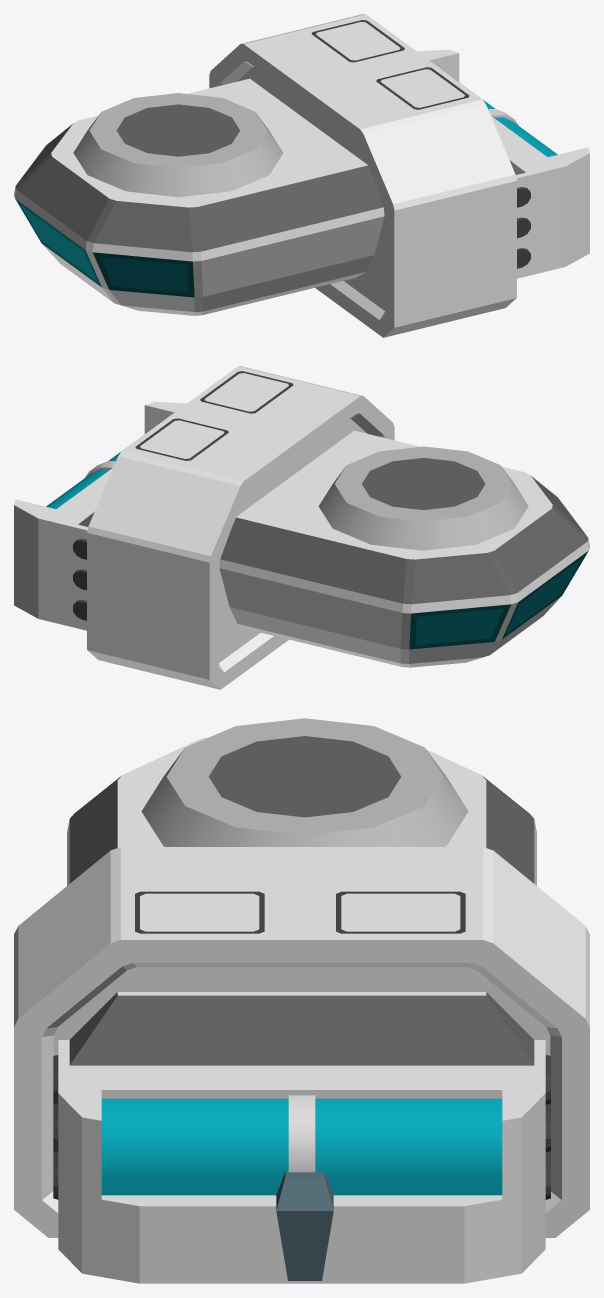
Rendered from space_station_028.fbx.
The picture shows the model from 3 angles, top to bottom: view 1: azimuth 30°, elevation 25°; view 2: azimuth 150°, elevation 25°; view 3: azimuth 270°, elevation 25°; orthographic projection. The views are drawn at different scales.
Parts seen in each view (by area): view 1: space_station_028; view 2: space_station_028; view 3: space_station_028.
Boxes of the visible parts, <box> form: space_station_028: <box>14,14,589,337</box>; space_station_028: <box>14,366,589,689</box>; space_station_028: <box>14,718,589,1283</box>.
Size of the model in its own units: 1840 by 1207 by 692.
